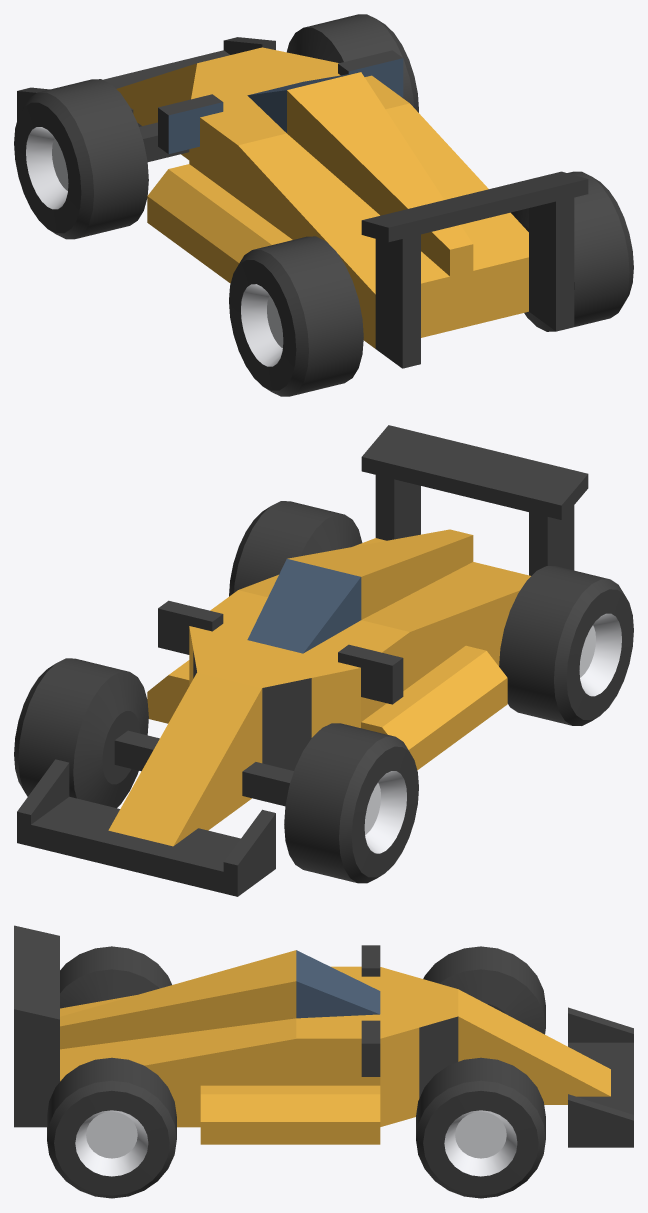
The model's file is raceCarOrange.obj.
3 views of the same model, one above another, from view 1: azimuth 30°, elevation 25°; view 2: azimuth 150°, elevation 25°; view 3: azimuth 270°, elevation 25° (orthographic). The views are drawn at different scales.
Visible parts, largest first — view 1: raceCarOrange; view 2: raceCarOrange; view 3: raceCarOrange.
Part boxes in pixels (x1,y1,x2,y2): raceCarOrange: (14, 14, 633, 396); raceCarOrange: (14, 425, 633, 896); raceCarOrange: (14, 925, 633, 1198).
Size of the model in its own units: 0.7288 by 0.397 by 1.35.
